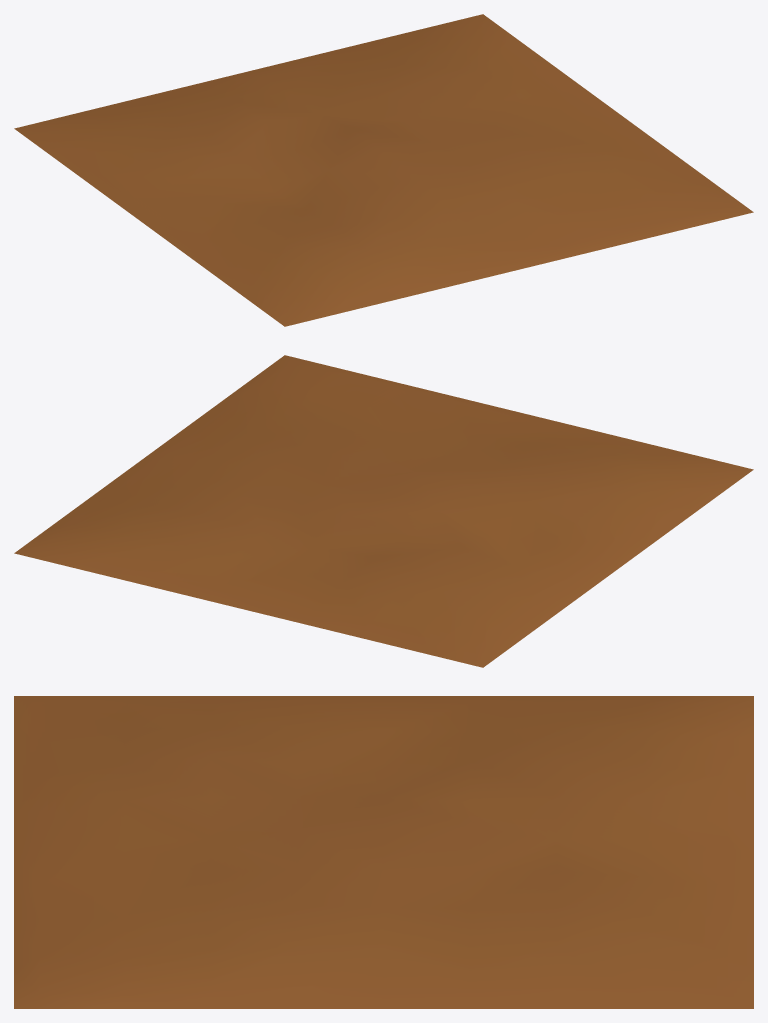
Rendered from Env_Dirt_Medium_Dry_01.obj.
The picture shows the model from 3 angles, top to bottom: view 1: azimuth 30°, elevation 25°; view 2: azimuth 150°, elevation 25°; view 3: azimuth 270°, elevation 25°; orthographic projection. The views are drawn at different scales.
Visible parts, largest first — view 1: Env_Dirt_Medium_Dry_01; view 2: Env_Dirt_Medium_Dry_01; view 3: Env_Dirt_Medium_Dry_01.
Part boxes in pixels (x1,y1,x2,y2): Env_Dirt_Medium_Dry_01: (14,14,753,326); Env_Dirt_Medium_Dry_01: (14,355,753,667); Env_Dirt_Medium_Dry_01: (14,696,753,1008).
Size of the model in its own units: 1 by 0.0365 by 1.
1 material, 1 textured.
